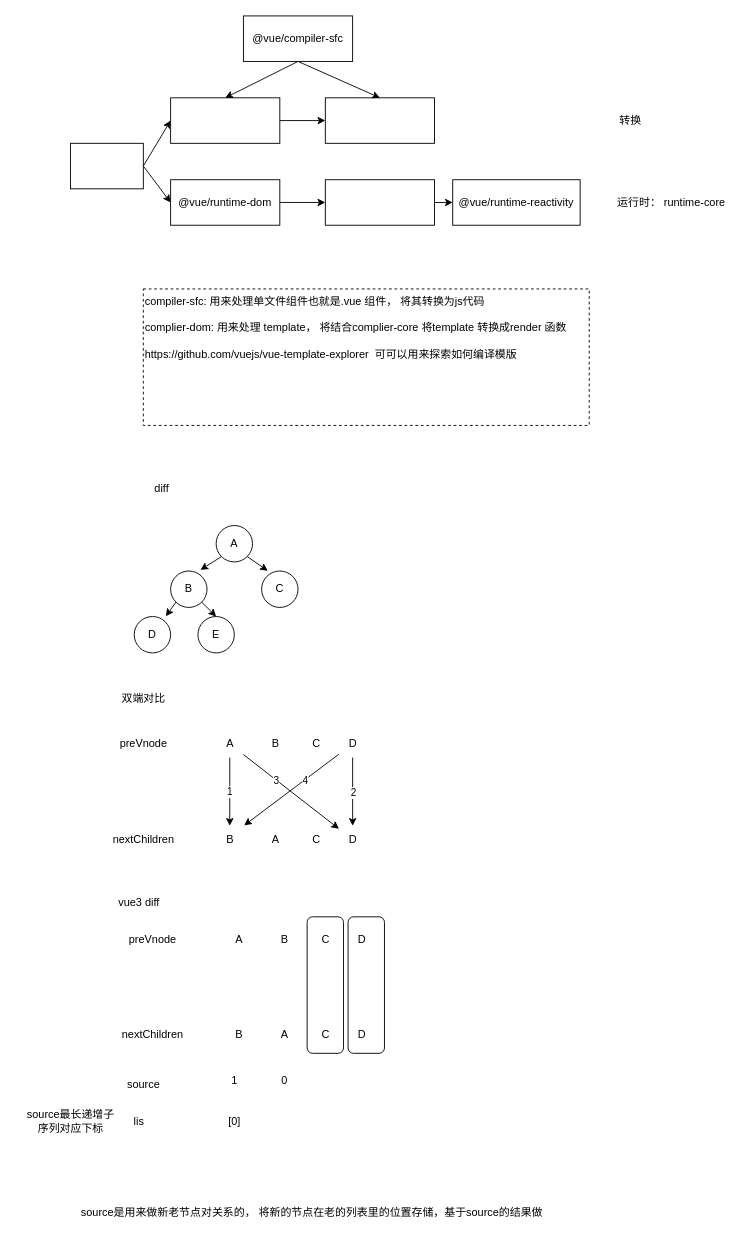
Some shapes in this 750 by 1242 pixel diagram are drawn without their labels. The box of each missing label's shape, as (x1, y1, x2, y2) in pixels:
@vue/compiler-core: (324, 97, 435, 143)
@vue/compiler-dom: (170, 97, 280, 143)
@vue/runtime-core: (324, 179, 435, 225)
vue: (70, 142, 143, 189)
